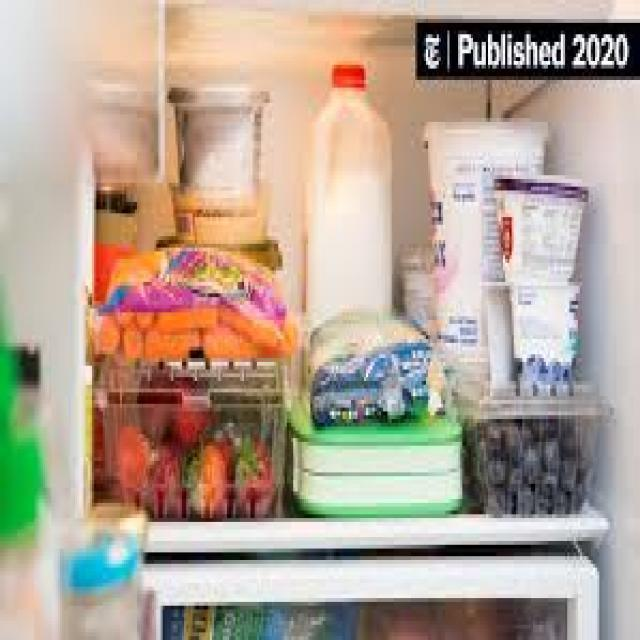Zanahoria: (94, 224, 294, 384)
blueberries: (469, 393, 599, 521)
milk: (288, 21, 405, 314)
strawberries: (106, 350, 287, 534)
